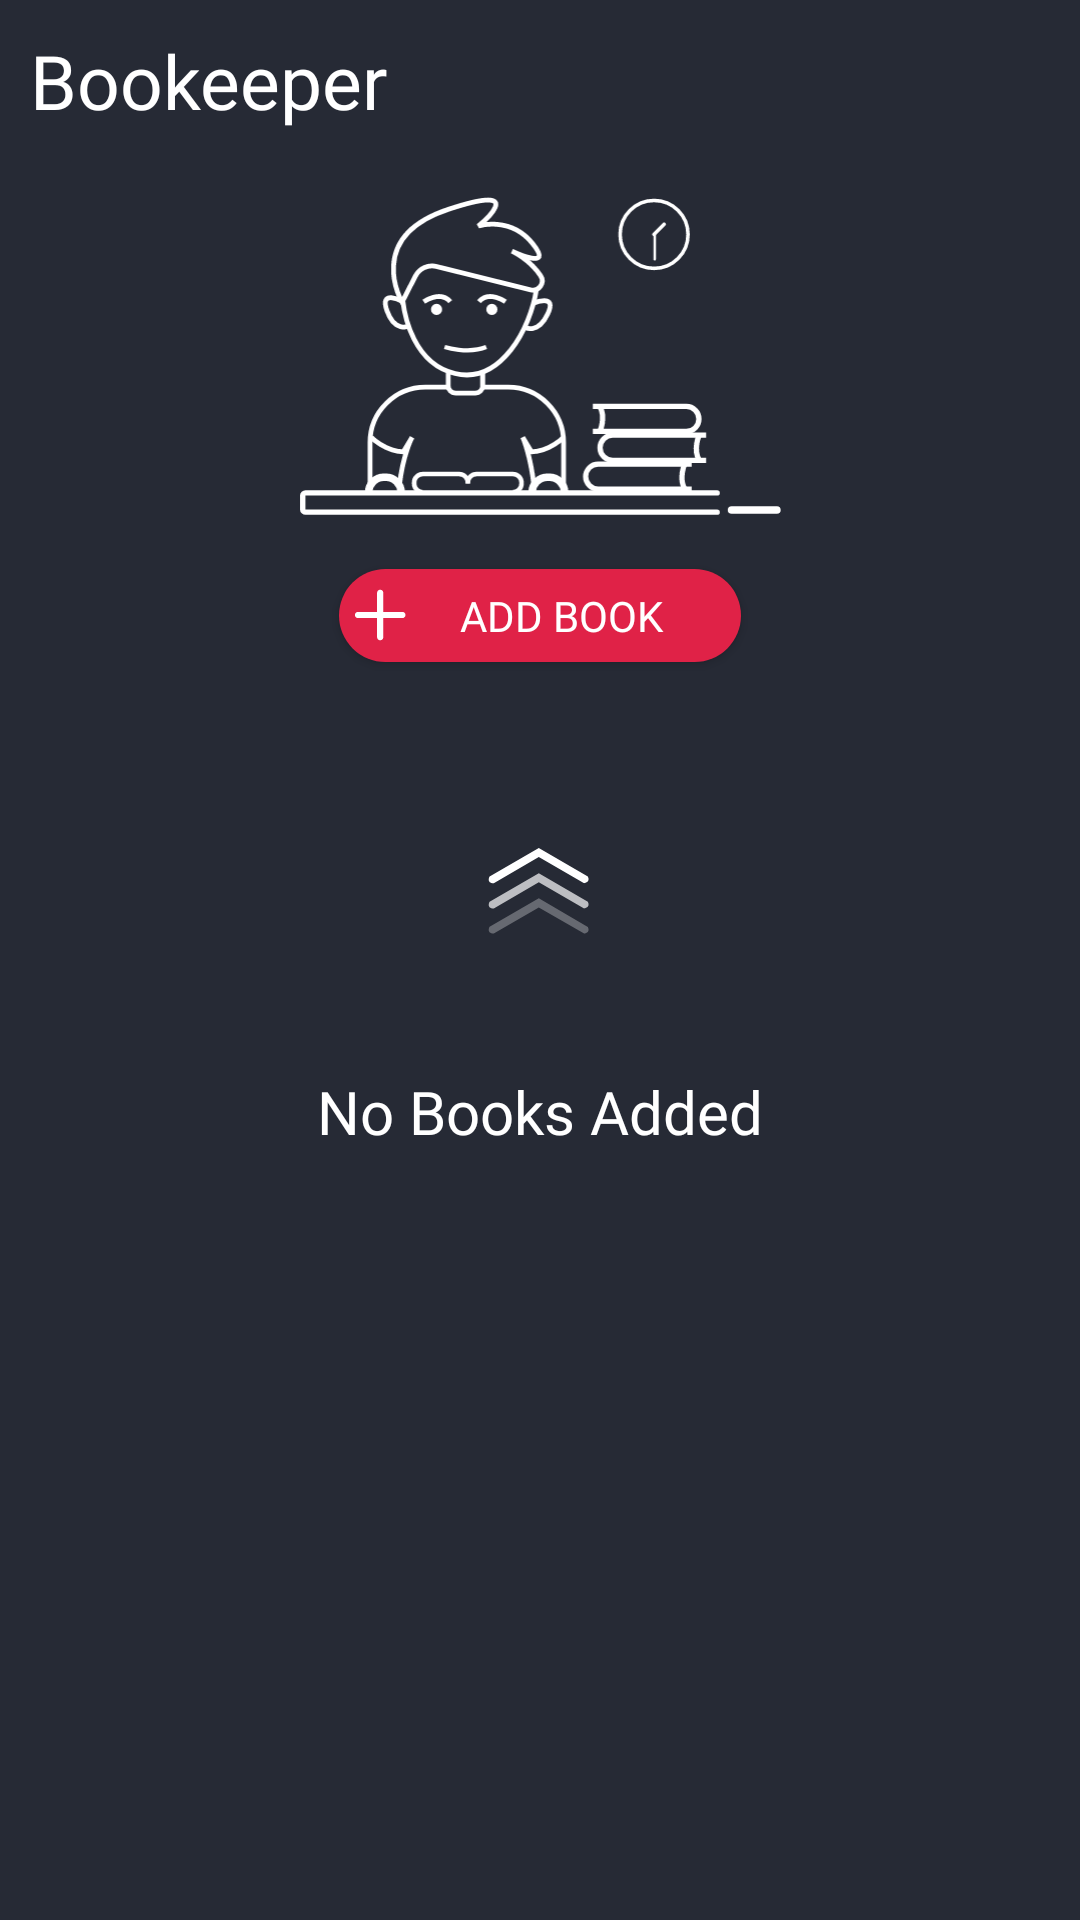

Named icons in this screenshot (1080 x 1920) and their centers, [x,y]:
arrow: [538,891]
